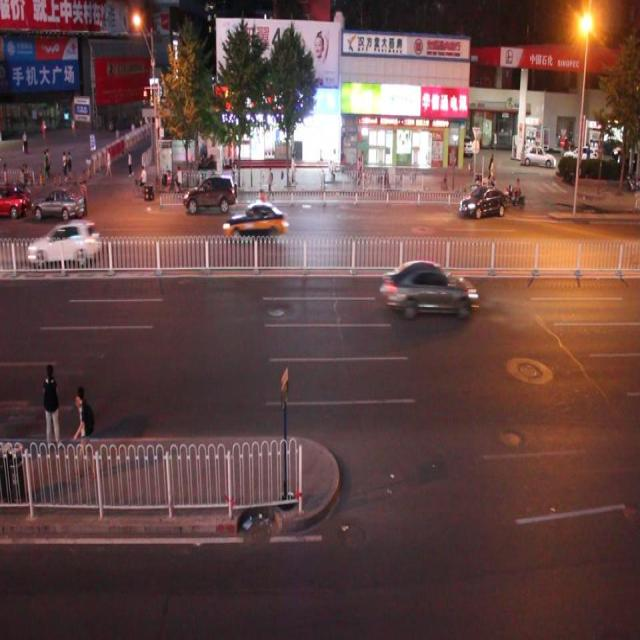car: (381, 256, 476, 320), (28, 216, 101, 266), (220, 200, 290, 240), (180, 174, 234, 218), (29, 186, 83, 228), (458, 182, 506, 220)
